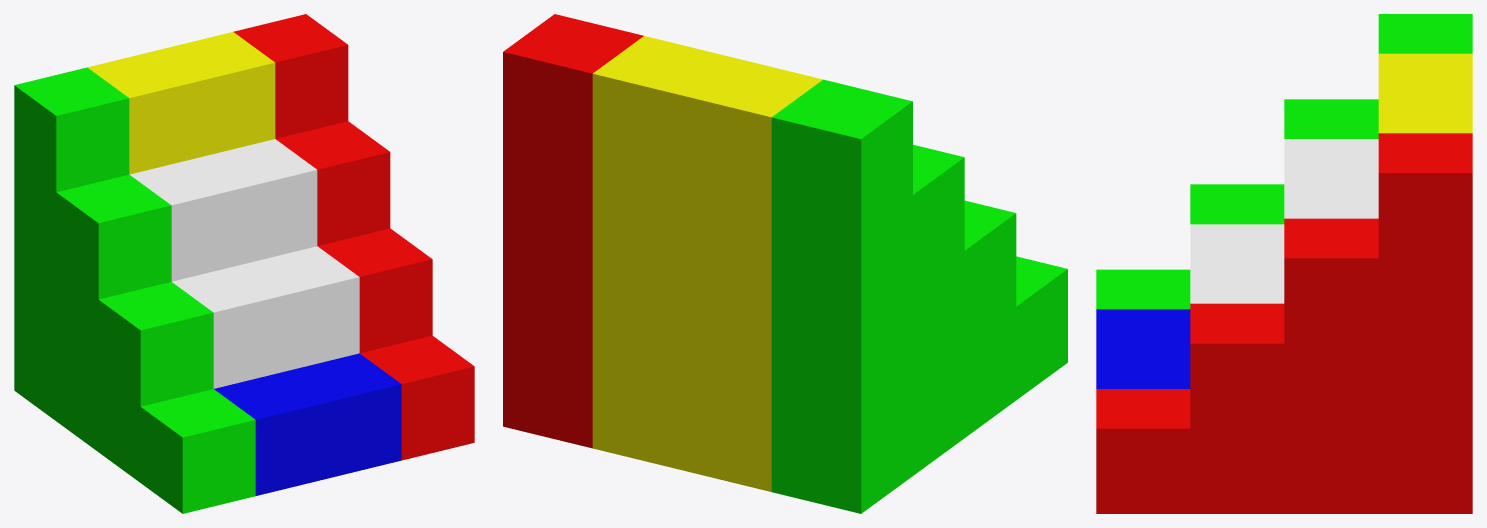
Rendered from 4voxCube.obj.
3 views of the same model, side by side, from view 1: azimuth 30°, elevation 25°; view 2: azimuth 150°, elevation 25°; view 3: azimuth 270°, elevation 25° (orthographic). The views are drawn at different scales.
Bounding box in the file's own units: 0.4 × 0.4 × 0.4.
Materials: 1 (1 with a texture image).
